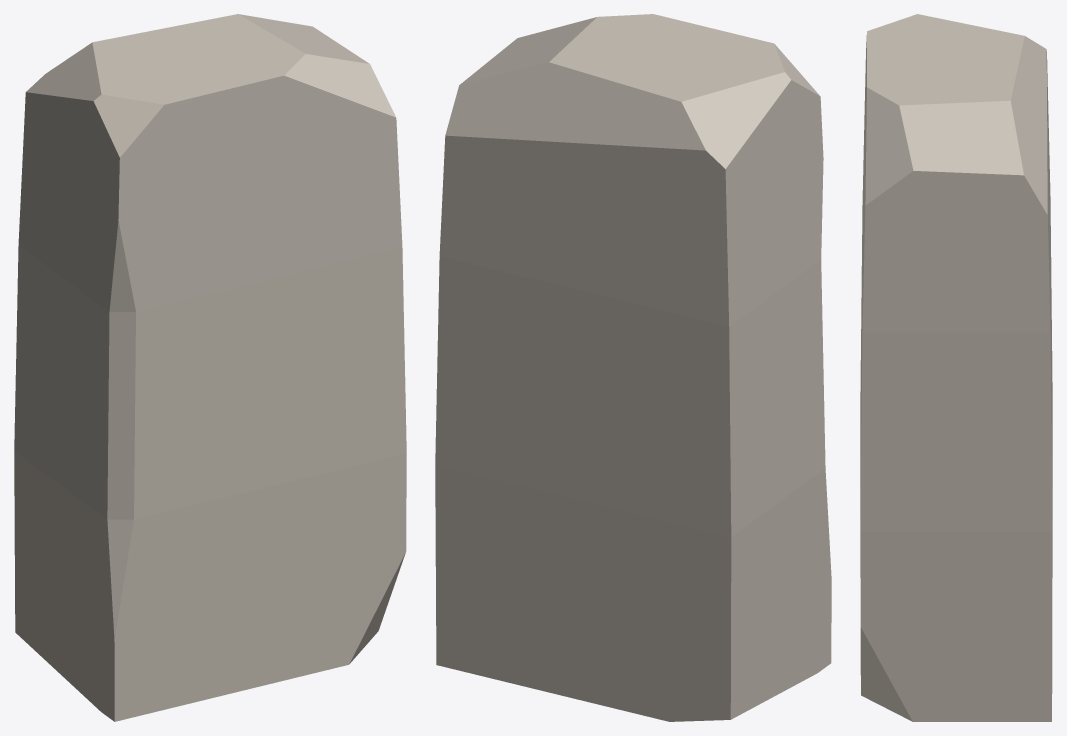
Rendered from Stonehenge_07.fbx.
The picture shows the model from 3 angles, left to right: view 1: azimuth 30°, elevation 25°; view 2: azimuth 150°, elevation 25°; view 3: azimuth 270°, elevation 25°; orthographic projection. The views are drawn at different scales.
Visible parts, largest first — view 1: Stonehenge_07; view 2: Stonehenge_07; view 3: Stonehenge_07.
Boxes of the visible parts, x1,y1,x2,y2 form: Stonehenge_07: (14, 14, 406, 721); Stonehenge_07: (435, 14, 831, 721); Stonehenge_07: (860, 14, 1052, 721).
Bounding box in the file's own units: 203 × 400 × 120.
